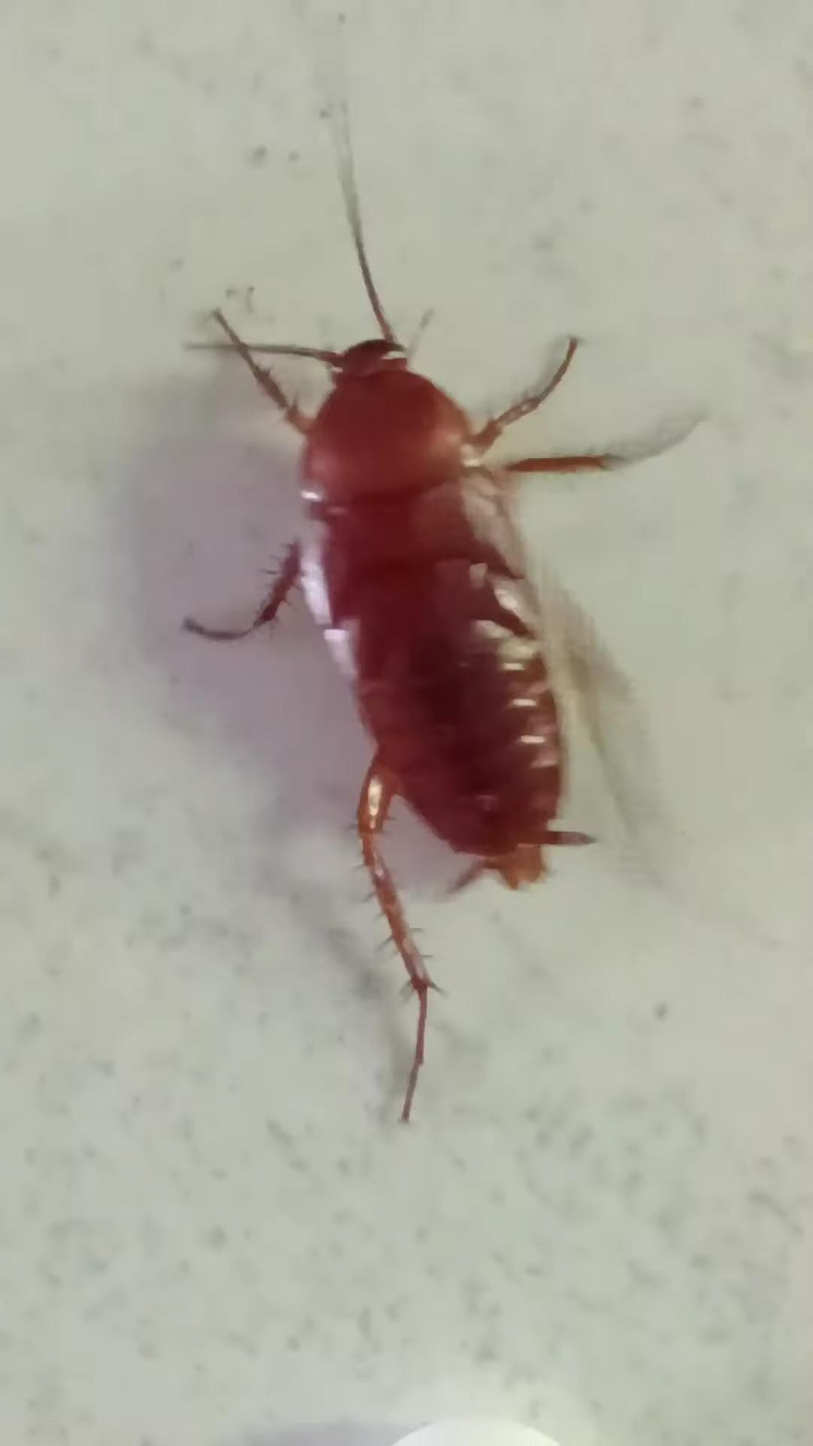cockroach: (117, 204, 697, 1103)
